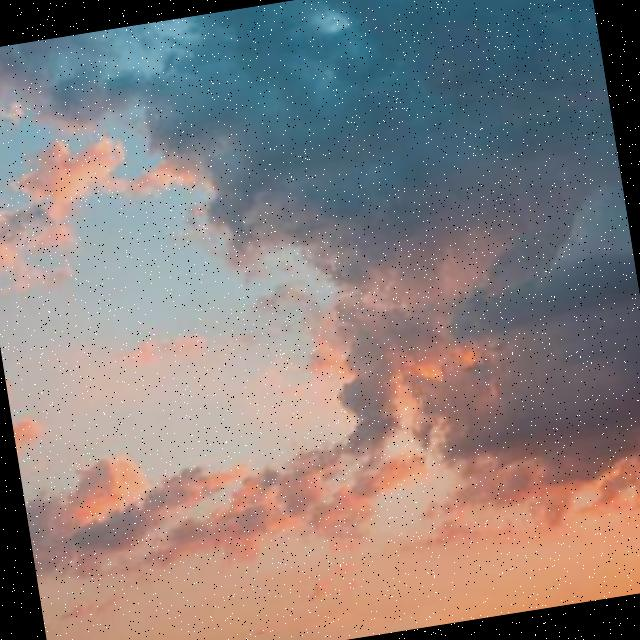Ns: (1, 1, 640, 609)
